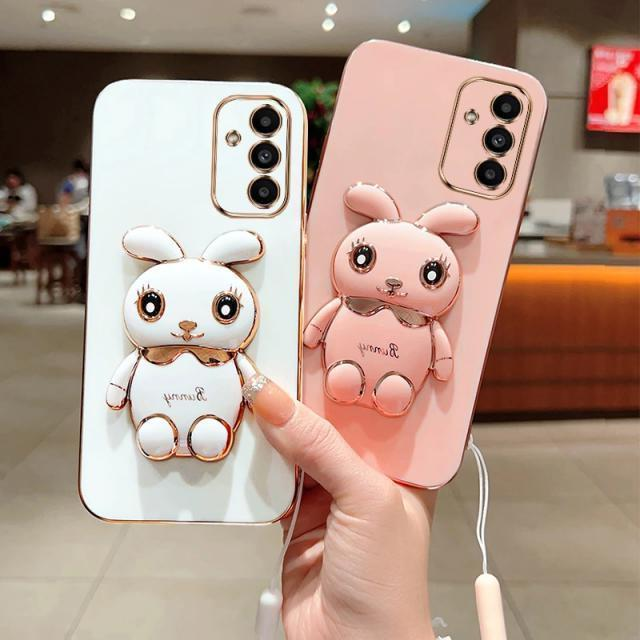mobile: (296, 34, 549, 491), (77, 79, 307, 521)
